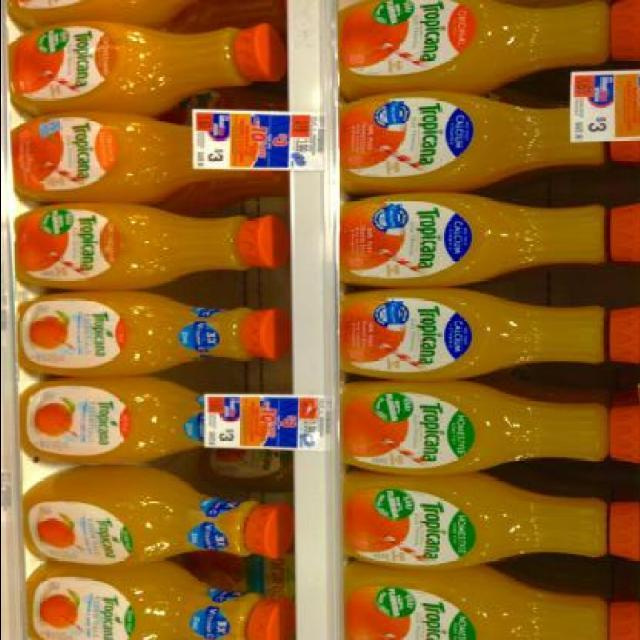Juice: (6, 0, 614, 640), (318, 388, 592, 480)
